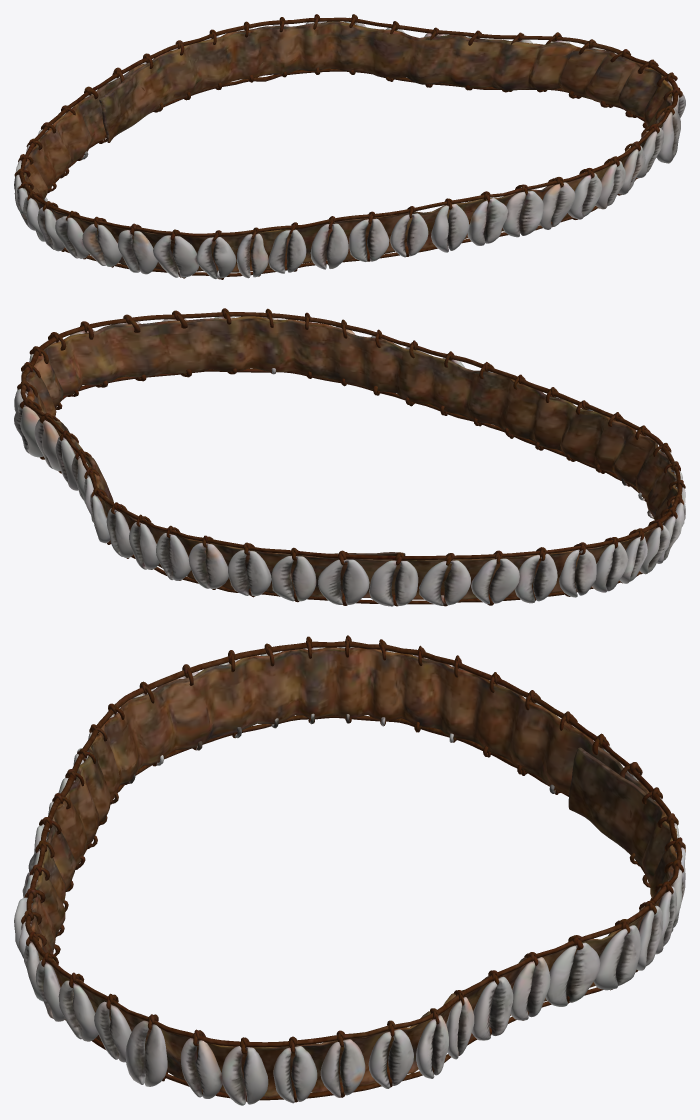
File: cowry.glb
The picture shows the model from 3 angles, top to bottom: view 1: azimuth 30°, elevation 25°; view 2: azimuth 150°, elevation 25°; view 3: azimuth 270°, elevation 25°; orthographic projection. The views are drawn at different scales.
Visible parts, largest first — view 1: band, beeds, rope; view 2: band, beeds, rope; view 3: band, beeds, rope.
Boxes of the visible parts, x1,y1,x2,y2 form: band: (24,21,672,272); beeds: (14,17,685,279); rope: (14,14,682,279); band: (26,316,677,599); beeds: (14,316,685,606); rope: (17,308,685,606); band: (31,647,677,1097); beeds: (14,647,685,1105); rope: (21,635,685,1102).
Bounding box in the file's own units: 7.24 × 0.6372 × 4.98.
Materials: 1 (1 with a texture image).
